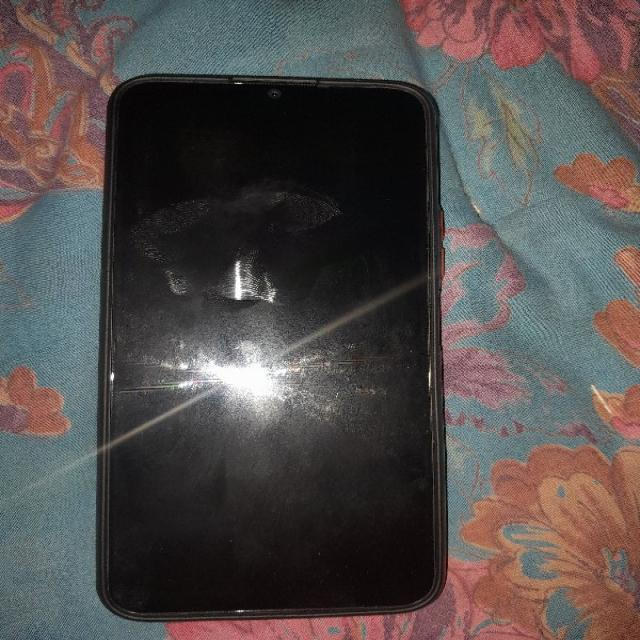mobile phone: (94, 71, 448, 622)
